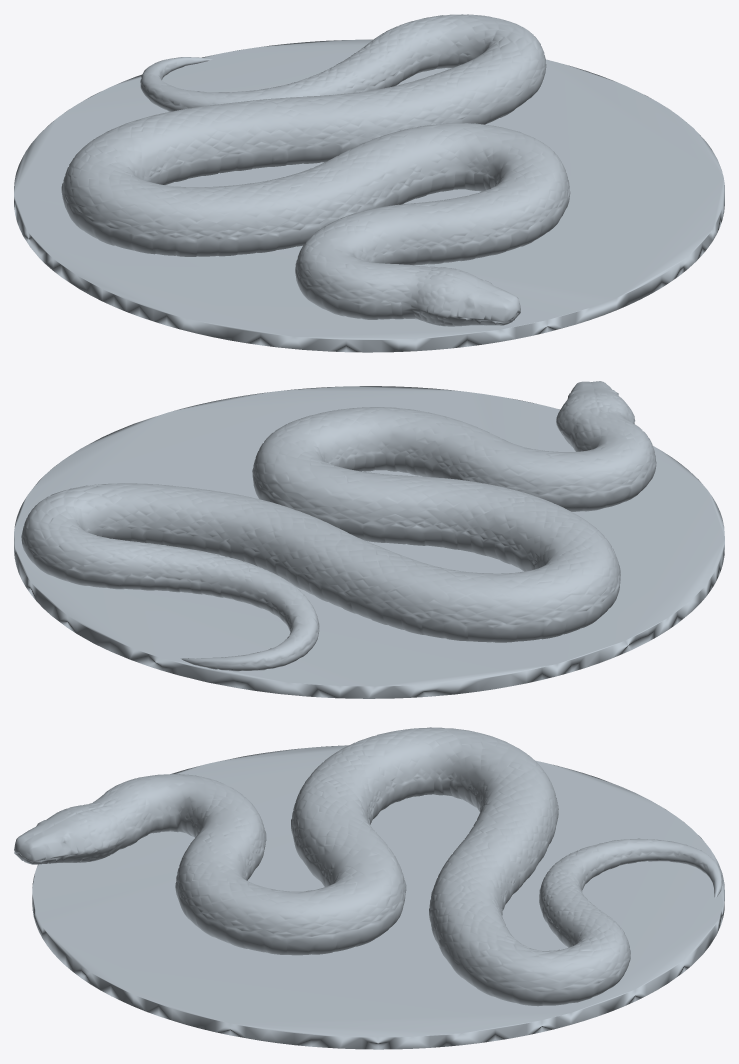
The model's file is giant-constrictor-snake.glb.
3 renders of one model, top to bottom at view 1: azimuth 30°, elevation 25°; view 2: azimuth 150°, elevation 25°; view 3: azimuth 270°, elevation 25°, orthographic. The views are drawn at different scales.
Parts seen in each view (by area): view 1: Giant_Constrictor_Snake.001; view 2: Giant_Constrictor_Snake.001; view 3: Giant_Constrictor_Snake.001.
Boxes of the visible parts, <box> form: Giant_Constrictor_Snake.001: <box>14,14,724,352</box>; Giant_Constrictor_Snake.001: <box>14,381,724,698</box>; Giant_Constrictor_Snake.001: <box>14,727,724,1049</box>.
Bounding box in the file's own units: 75.74 × 7.38 × 77.74.
Materials: 1 (1 with a texture image).
